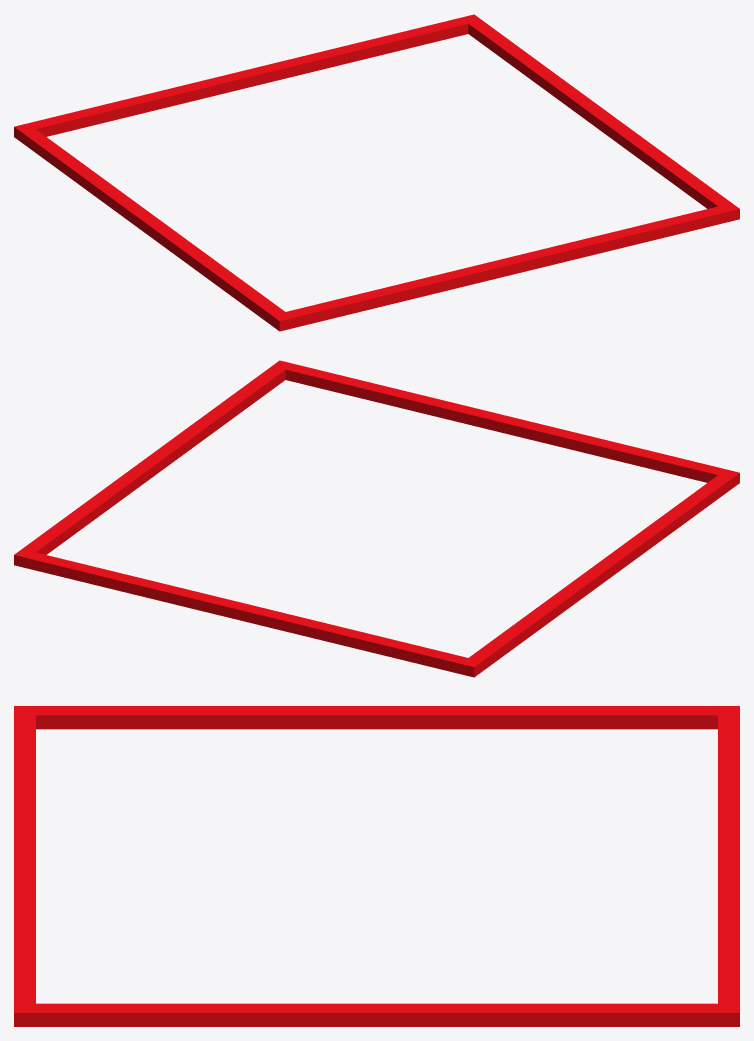
Rendered from cursor.fbx.
The picture shows the model from 3 angles, top to bottom: view 1: azimuth 30°, elevation 25°; view 2: azimuth 150°, elevation 25°; view 3: azimuth 270°, elevation 25°; orthographic projection. The views are drawn at different scales.
Parts seen in each view (by area): view 1: Mesh01; view 2: Mesh01; view 3: Mesh01.
Boxes of the visible parts, x1,y1,x2,y2 form: Mesh01: [14, 14, 739, 331]; Mesh01: [14, 360, 739, 677]; Mesh01: [14, 706, 739, 1026].
Bounding box in the file's own units: 3.6 × 0.0774 × 3.6.
